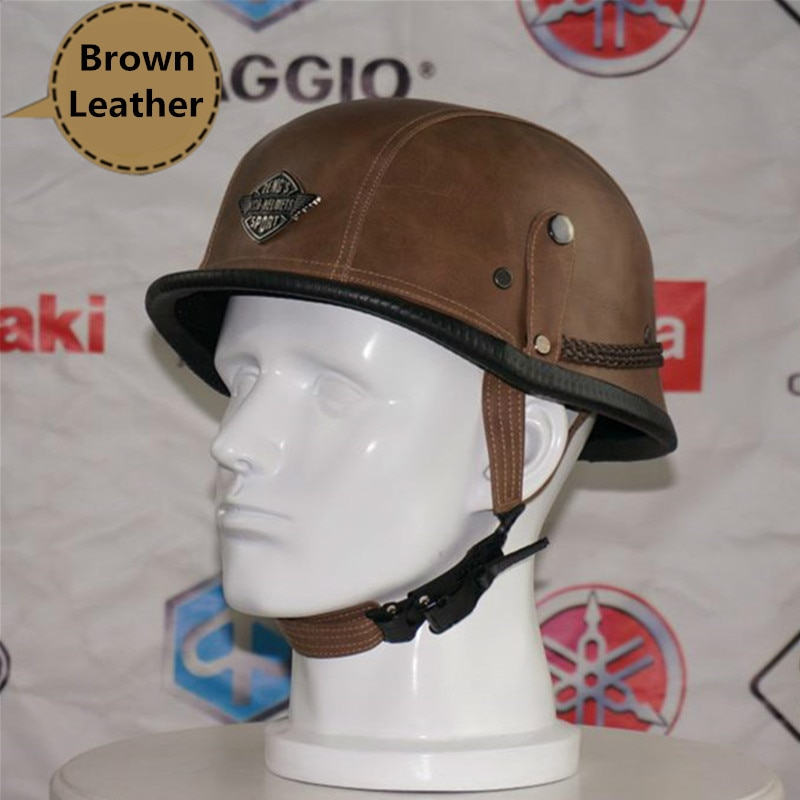with_helmet: (135, 90, 707, 473)
